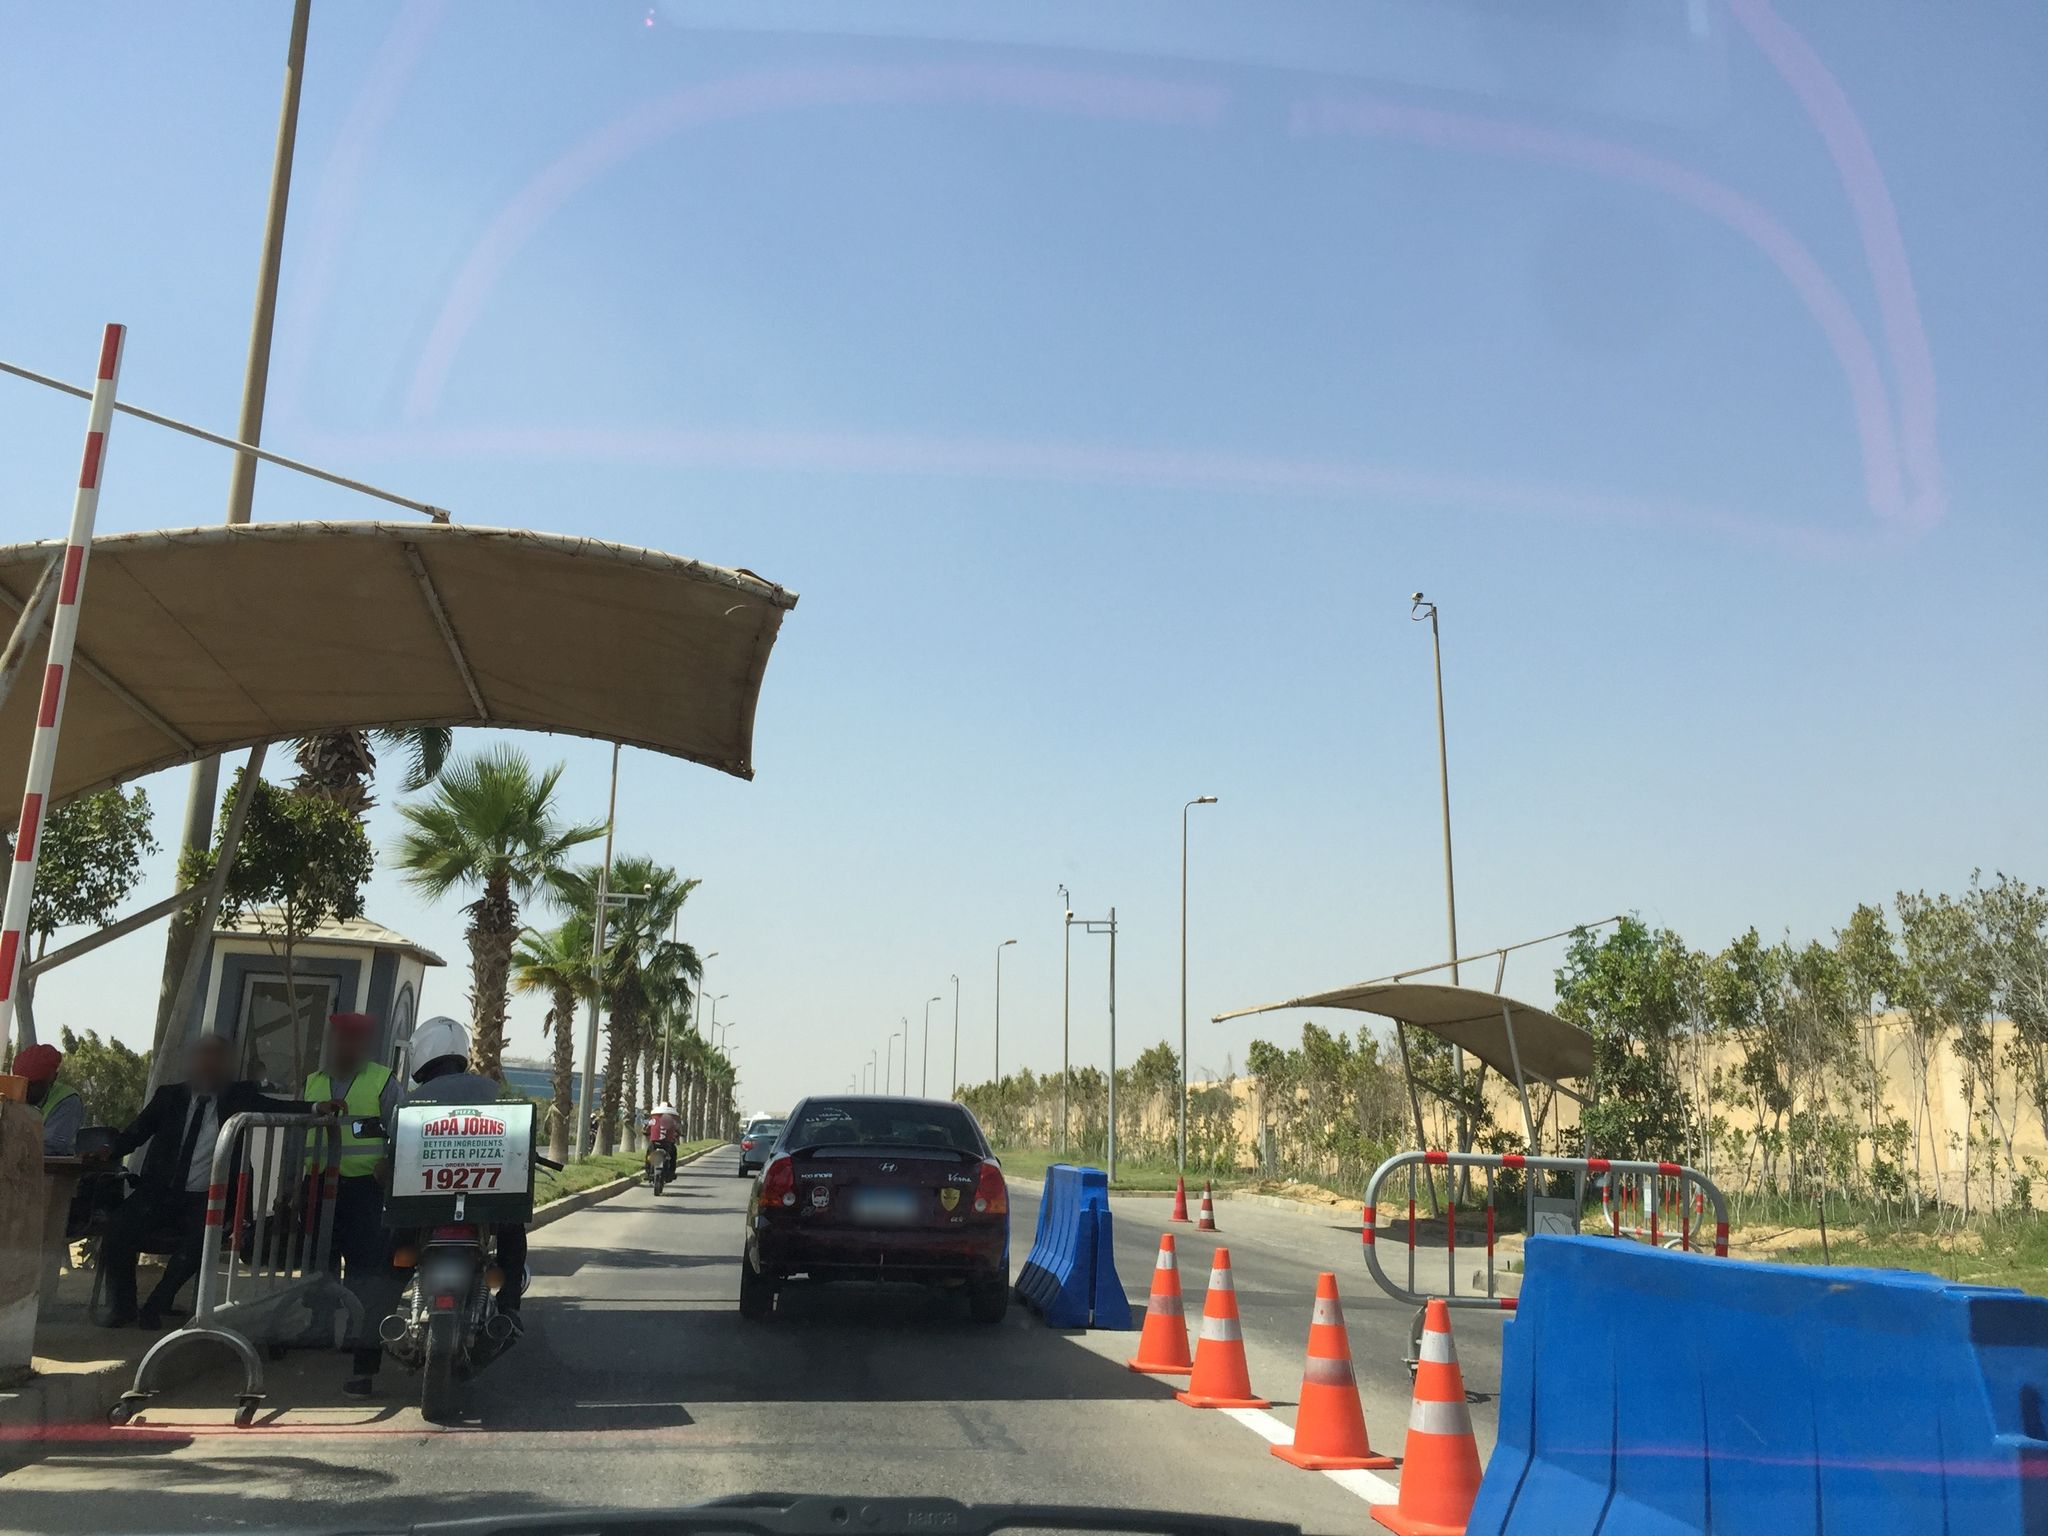car: (734, 1094, 1011, 1326), (735, 1118, 789, 1176)
motorcycle: (347, 1099, 564, 1426), (640, 1129, 685, 1196)
